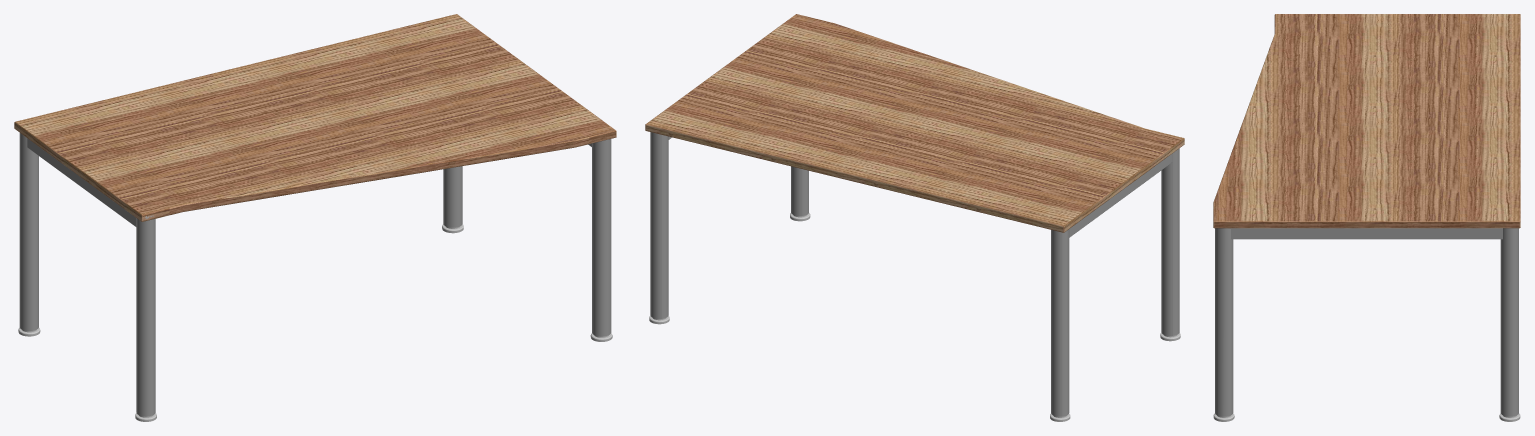
The model's file is simply_table_form_6right_left160x100_FINAL.fbx.
3 views of the same model, side by side, from view 1: azimuth 30°, elevation 25°; view 2: azimuth 150°, elevation 25°; view 3: azimuth 270°, elevation 25° (orthographic). The views are drawn at different scales.
Parts seen in each view (by area): view 1: drewno_mesh, metal_mesh, plastik_mesh; view 2: drewno_mesh, metal_mesh; view 3: drewno_mesh, metal_mesh.
Part boxes in pixels (bbox=[...]): drewno_mesh: bbox=[14, 14, 616, 221]; metal_mesh: bbox=[19, 133, 611, 416]; plastik_mesh: bbox=[18, 224, 612, 421]; drewno_mesh: bbox=[645, 14, 1184, 232]; metal_mesh: bbox=[650, 132, 1179, 416]; drewno_mesh: bbox=[1213, 14, 1520, 228]; metal_mesh: bbox=[1215, 228, 1518, 416].
Size of the model in its own units: 160 by 72 by 100.
